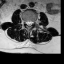CCS_normal: (28, 19, 30, 27)
LFS_normal: (32, 18, 34, 26)
LLS_normal: (30, 18, 32, 26)
RFS_normal: (23, 18, 26, 26)
RLS_normal: (26, 19, 28, 27)
